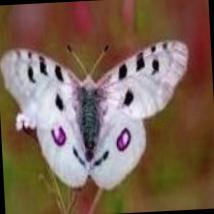butterfly: (0, 40, 187, 190)
